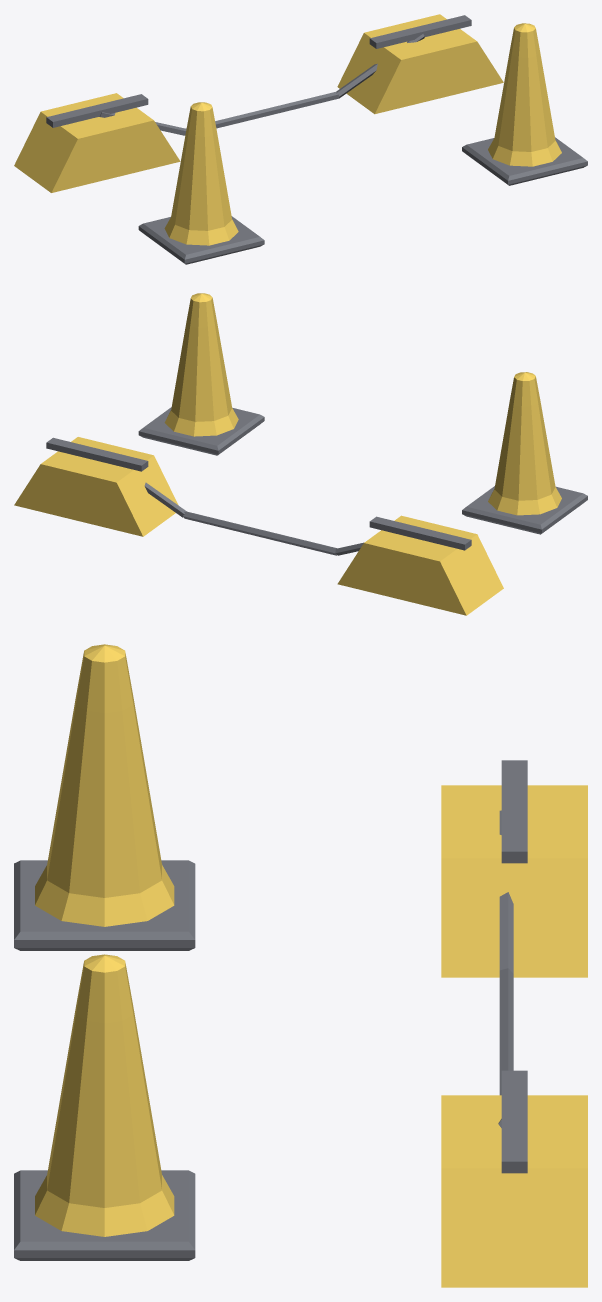
The model's file is airport-terminal-and-ground-operations-wheel-chock-and-616e7ea8__26083.glb.
3 views of the same model, one above another, from view 1: azimuth 30°, elevation 25°; view 2: azimuth 150°, elevation 25°; view 3: azimuth 270°, elevation 25° (orthographic). The views are drawn at different scales.
Visible parts, largest first — view 1: wheel-chock-and-cone-set; view 2: wheel-chock-and-cone-set; view 3: wheel-chock-and-cone-set.
Part boxes in pixels (left/top/right/bottom): wheel-chock-and-cone-set: left=14, top=14, right=587, bottom=264; wheel-chock-and-cone-set: left=14, top=293, right=587, bottom=615; wheel-chock-and-cone-set: left=14, top=644, right=587, bottom=1287.
Size of the model in its own units: 2.38 by 0.6901 by 1.33.
